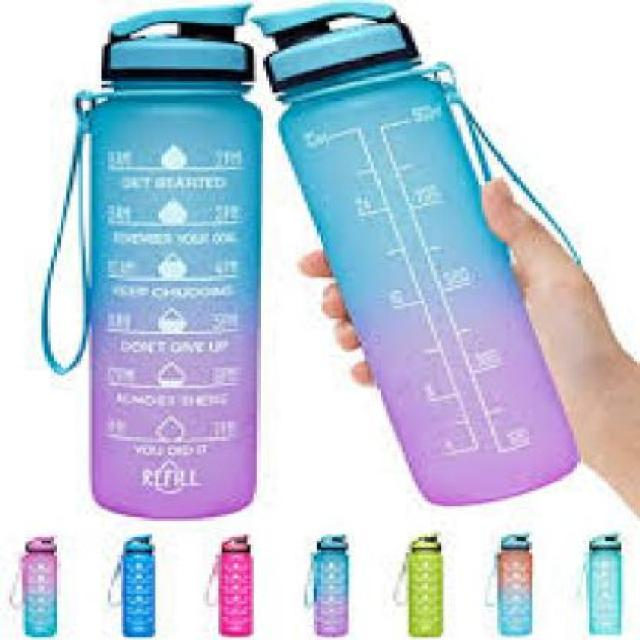Drinking: (270, 1, 640, 524), (62, 18, 271, 508)
